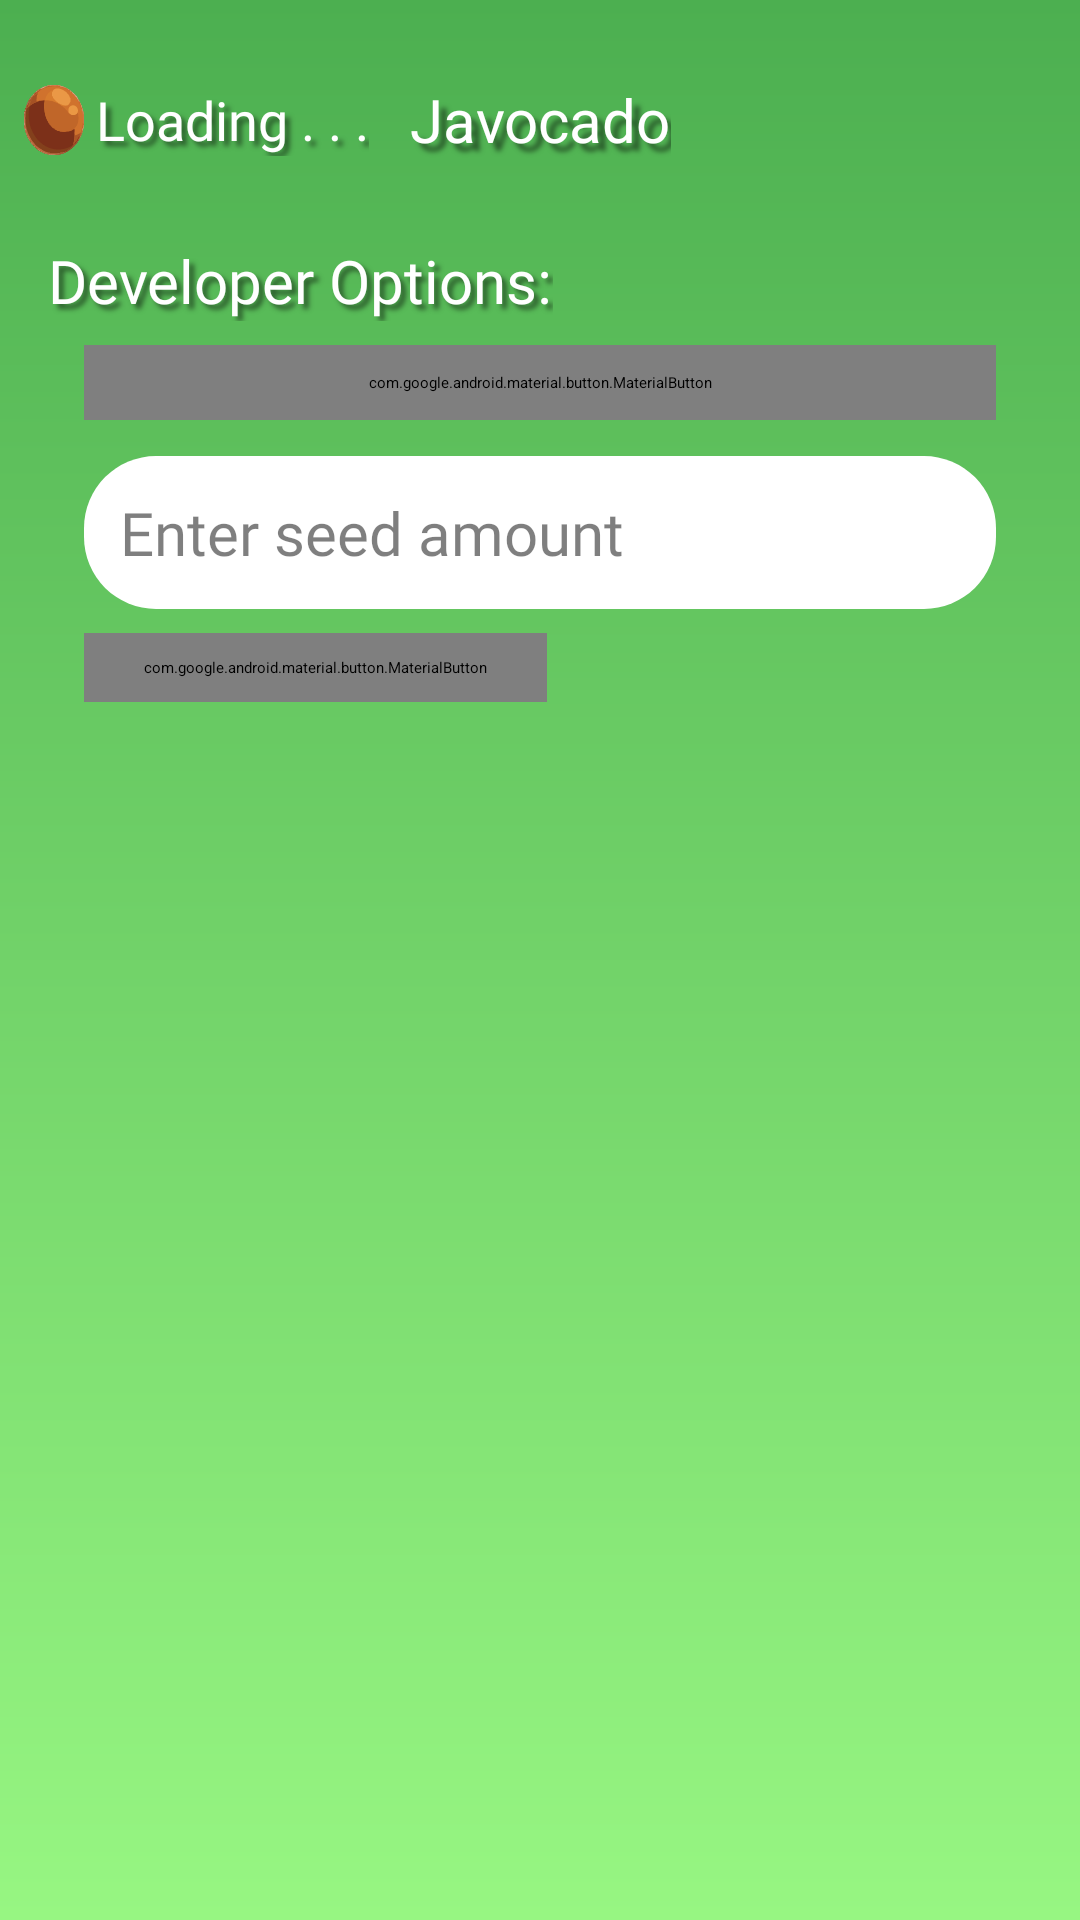

Where to tap for icons on this 1080×1920 app screen, as (x,y):
seed: (54,120)
